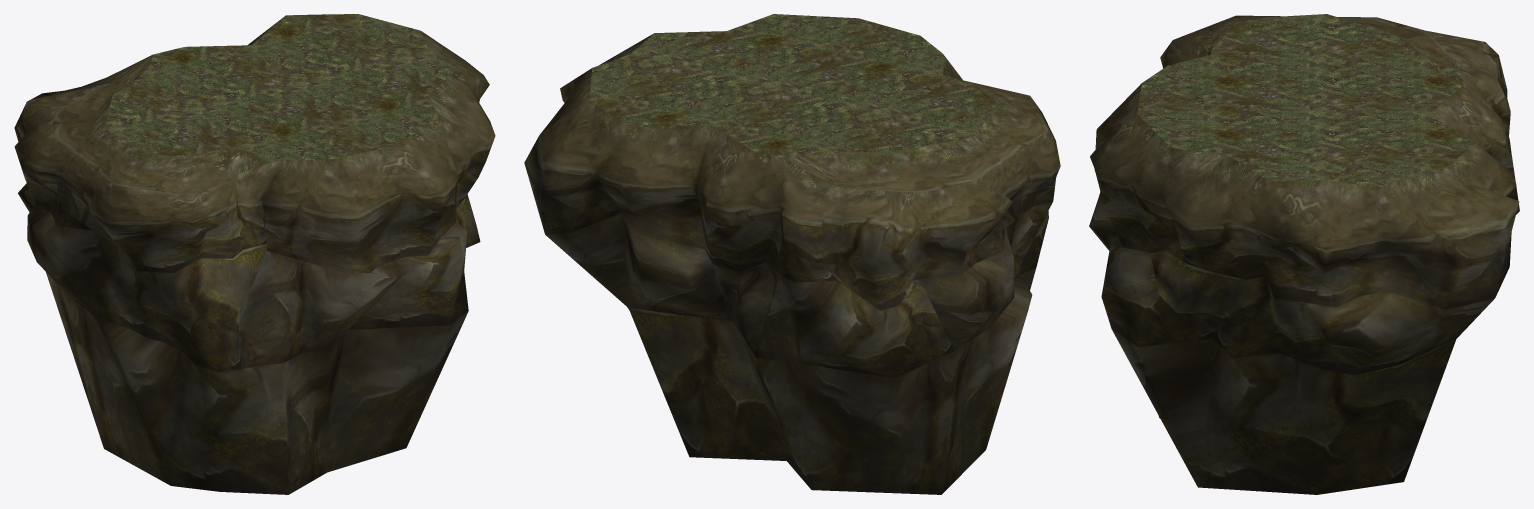
Rendered from F_dixing002.fbx.
The picture shows the model from 3 angles, left to right: view 1: azimuth 30°, elevation 25°; view 2: azimuth 150°, elevation 25°; view 3: azimuth 270°, elevation 25°; orthographic projection. The views are drawn at different scales.
Parts seen in each view (by area): view 1: F_dixing002; view 2: F_dixing002; view 3: F_dixing002.
Boxes of the visible parts, x1,y1,x2,y2 form: F_dixing002: [14, 14, 495, 494]; F_dixing002: [524, 14, 1060, 494]; F_dixing002: [1089, 14, 1519, 494].
Size of the model in its own units: 2461 by 1793 by 2000.
